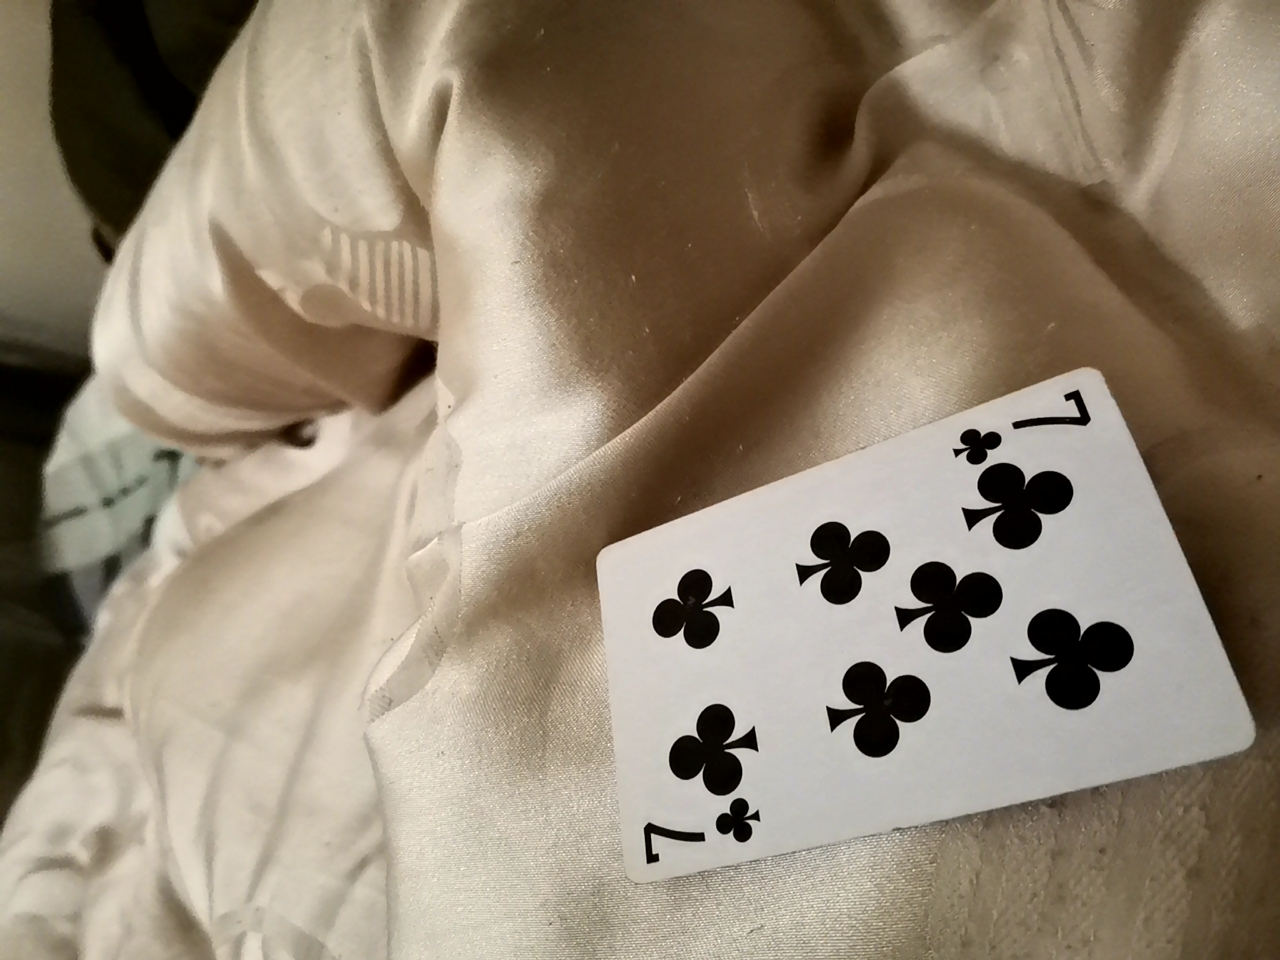mh 7: (570, 370, 1266, 881)
